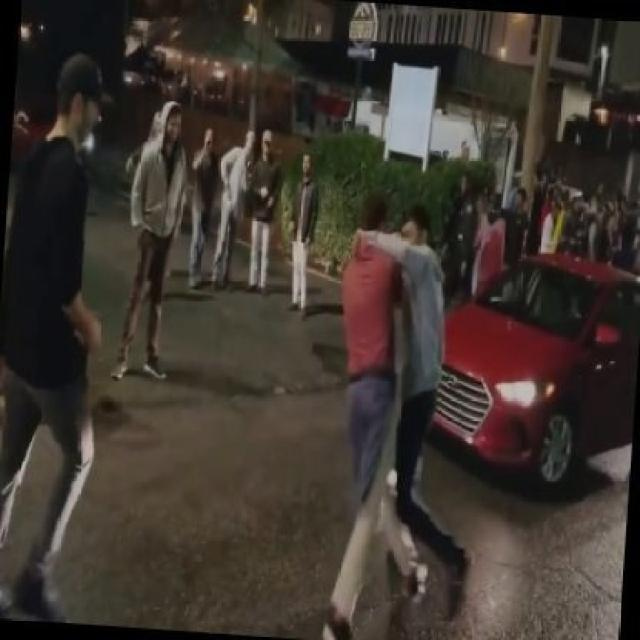fight: (323, 193, 468, 640)
non-fight: (0, 48, 106, 624), (111, 100, 186, 385), (211, 128, 254, 288), (184, 130, 216, 288), (248, 130, 276, 292), (291, 154, 316, 314), (474, 200, 504, 297)
